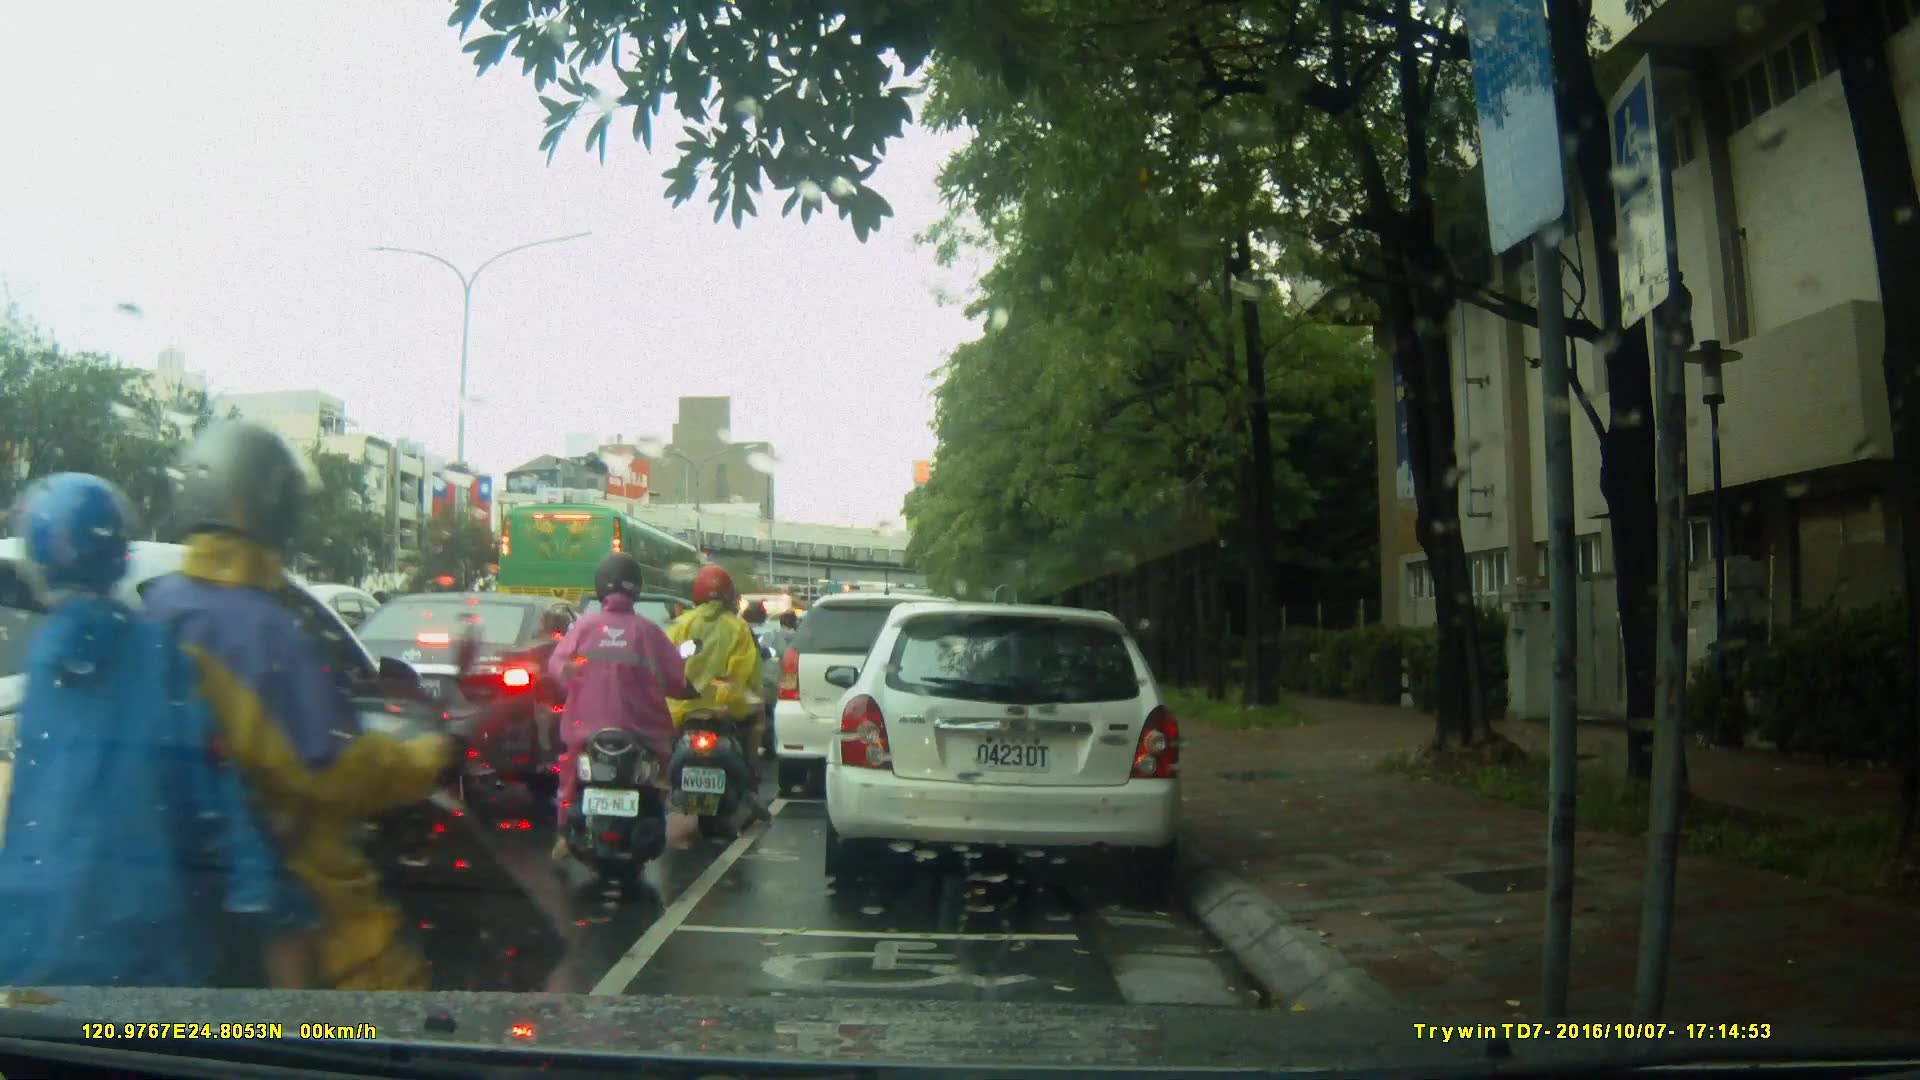rider: (1, 420, 571, 1080), (563, 560, 685, 890), (676, 561, 767, 822), (734, 597, 796, 756), (771, 604, 814, 722)
vehicle: (5, 536, 469, 988), (831, 592, 1196, 897), (316, 589, 629, 776), (770, 590, 999, 804), (497, 502, 712, 636)
